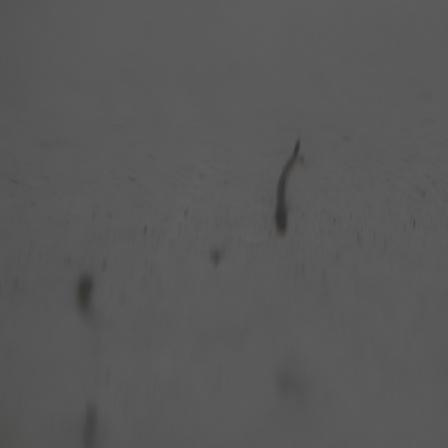Jentik-Nyamuk: (267, 133, 308, 243)
